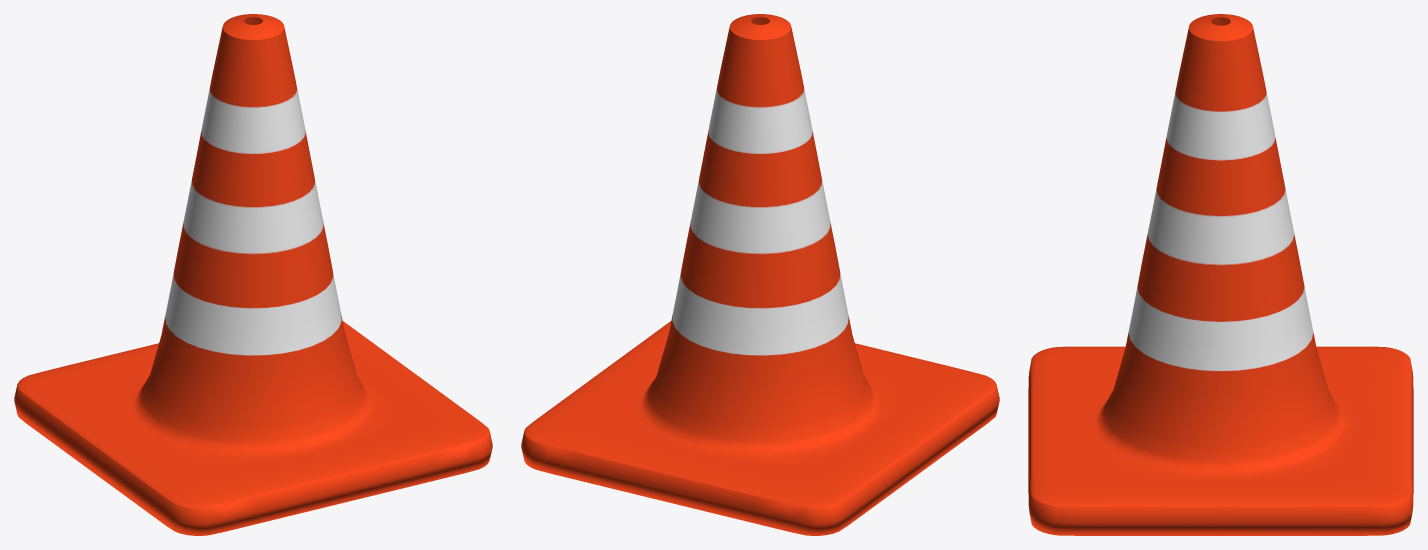
The model's file is traffic_cone.glb.
The picture shows the model from 3 angles, left to right: view 1: azimuth 30°, elevation 25°; view 2: azimuth 150°, elevation 25°; view 3: azimuth 270°, elevation 25°; orthographic projection. The views are drawn at different scales.
Parts seen in each view (by area): view 1: Object_2; view 2: Object_2; view 3: Object_2.
Part boxes in pixels (box(x1,y1,x2,y2)): Object_2: box(14, 14, 492, 535); Object_2: box(521, 14, 999, 535); Object_2: box(1028, 14, 1413, 535).
Bounding box in the file's own units: 0.4341 × 0.5403 × 0.4341.
Materials: 1 (1 with a texture image).
